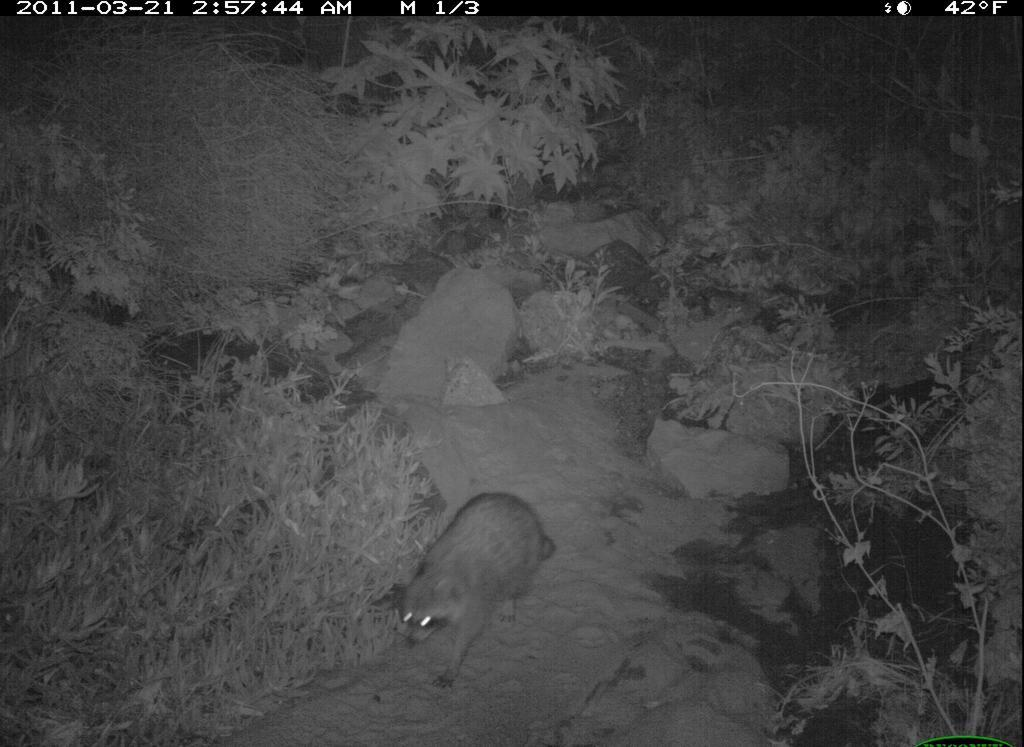raccoon: (386, 486, 566, 697)
